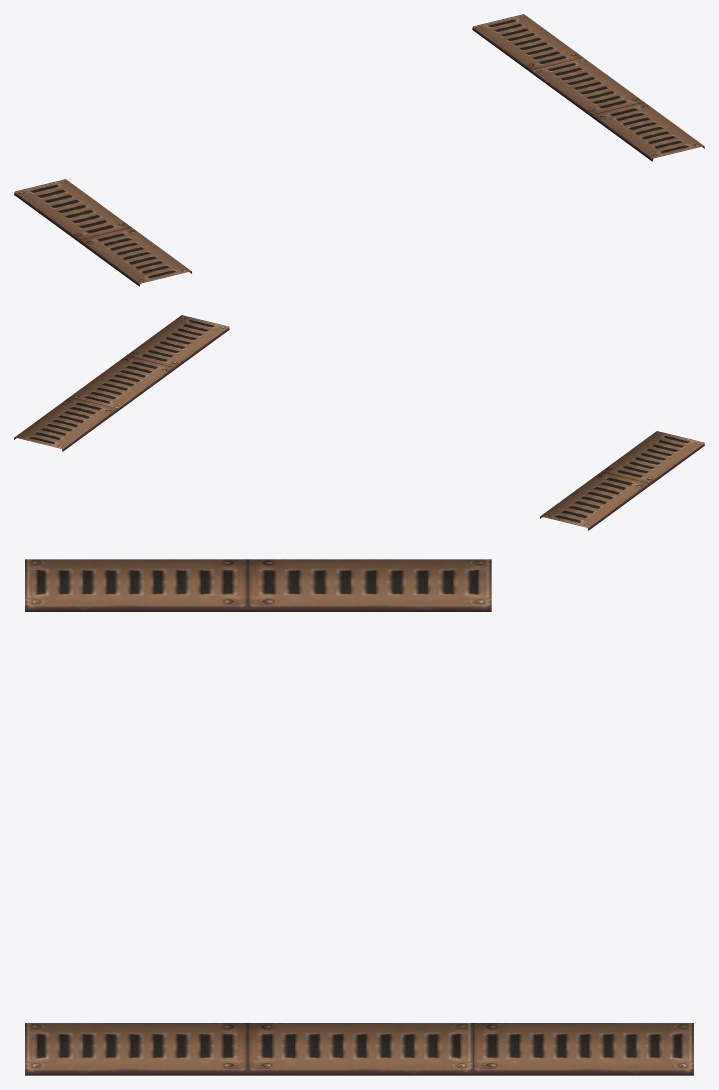
File: cs_zhucheng_xiashuidao_001.FBX
3 renders of one model, top to bottom at view 1: azimuth 30°, elevation 25°; view 2: azimuth 150°, elevation 25°; view 3: azimuth 270°, elevation 25°, orthographic. The views are drawn at different scales.
Parts seen in each view (by area): view 1: cs_zhucheng_xiashuidao_001; view 2: cs_zhucheng_xiashuidao_001; view 3: cs_zhucheng_xiashuidao_001.
Part boxes in pixels (box(x1,y1,x2,y2)): cs_zhucheng_xiashuidao_001: box(14, 14, 704, 286); cs_zhucheng_xiashuidao_001: box(14, 315, 704, 530); cs_zhucheng_xiashuidao_001: box(25, 559, 693, 1075).
Size of the model in its own units: 567 by 313 by 3.
